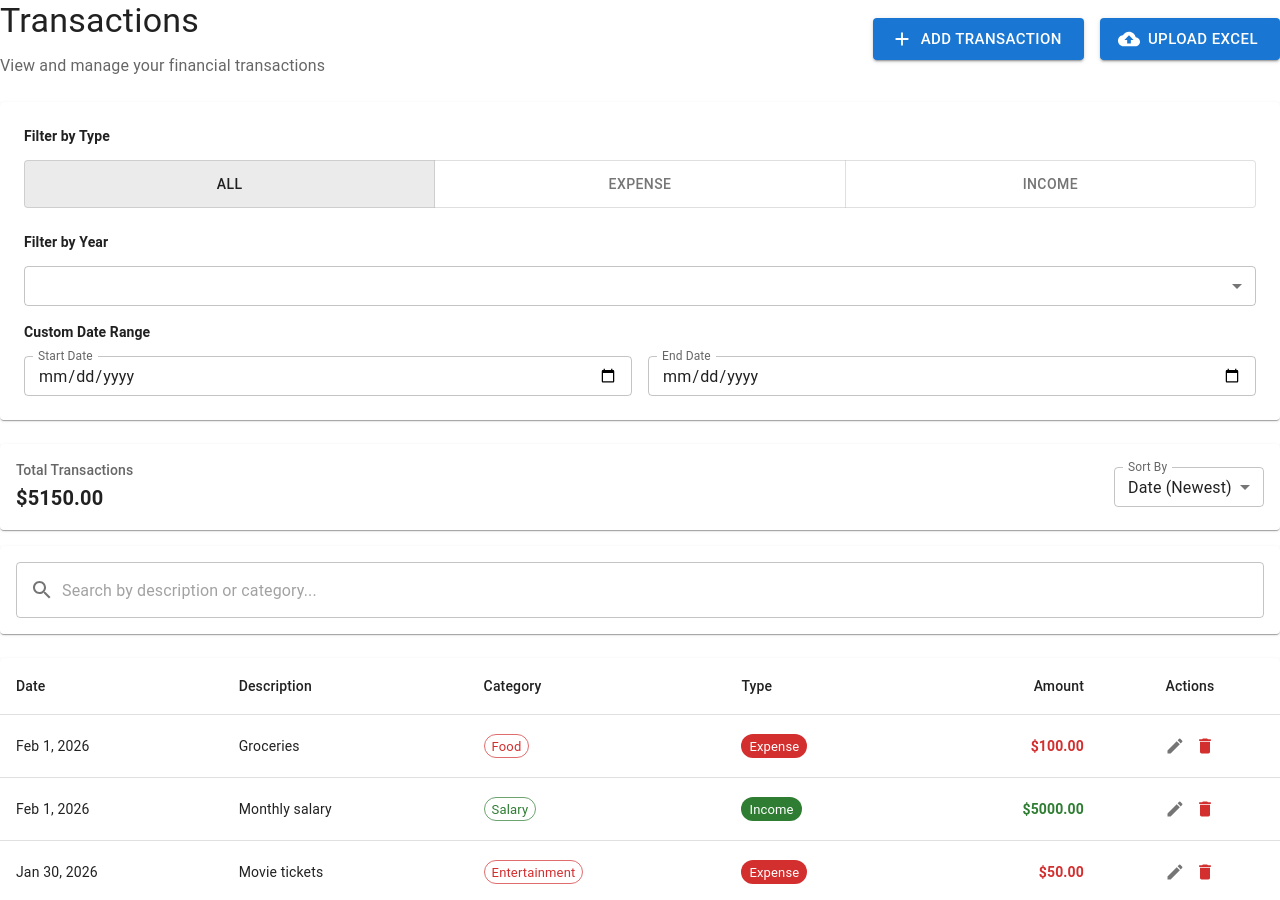
Test: Transactions Component › Delete Transaction › closes delete confirmation when cancel is clicked
Expected: the text "Groceries" is shown, x1=223 y1=715 x2=468 y2=778
Note: Click delete button
Click the button named "delete" in the row of "Groceries" at (1205, 746), box x1=1190 y1=731 x2=1220 y2=761
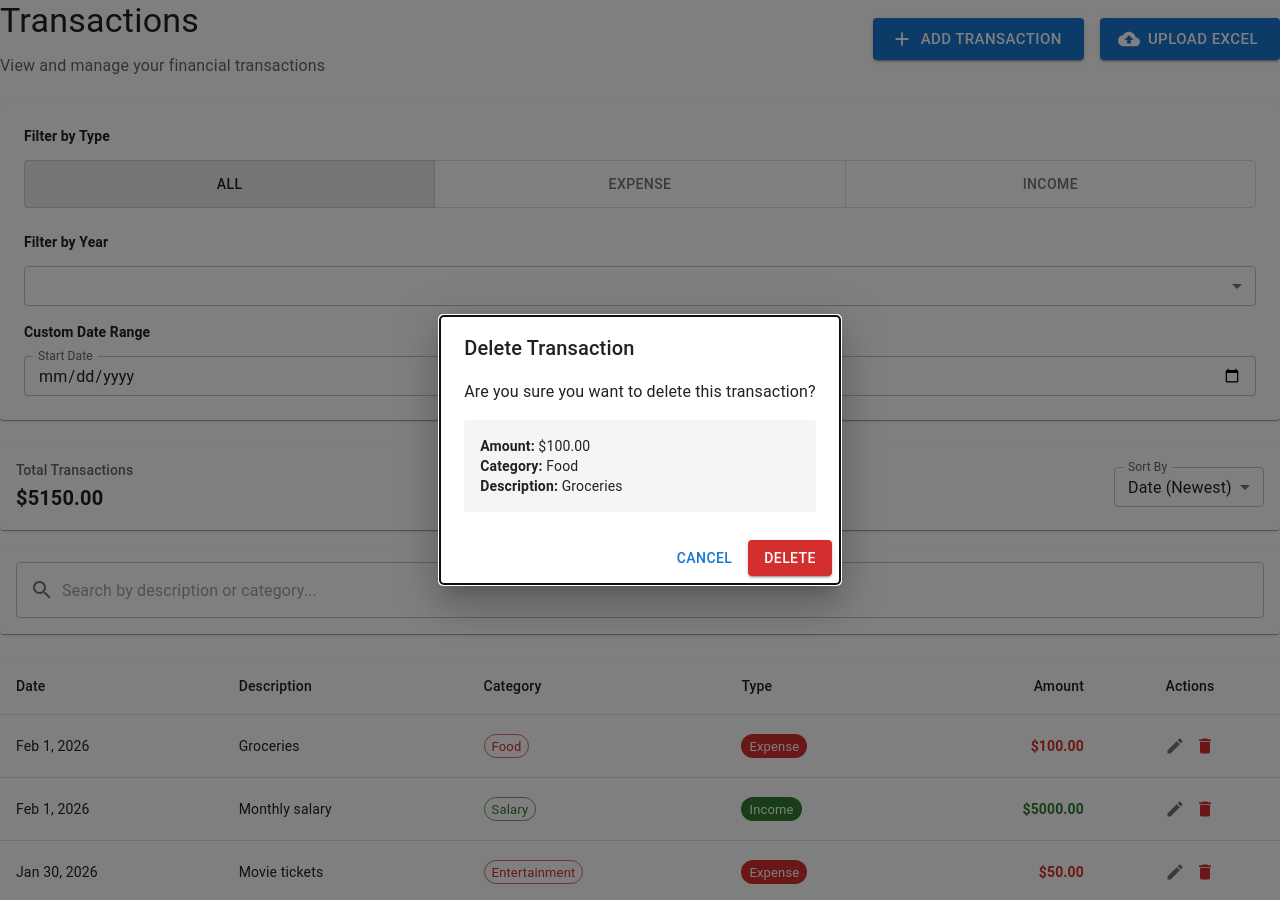
Expected: the text "Are you sure you want to delete this transaction?" is shown, x1=464 y1=380 x2=816 y2=404
Note: Click cancel
Click the button "Cancel" at (705, 558), box x1=669 y1=540 x2=740 y2=576
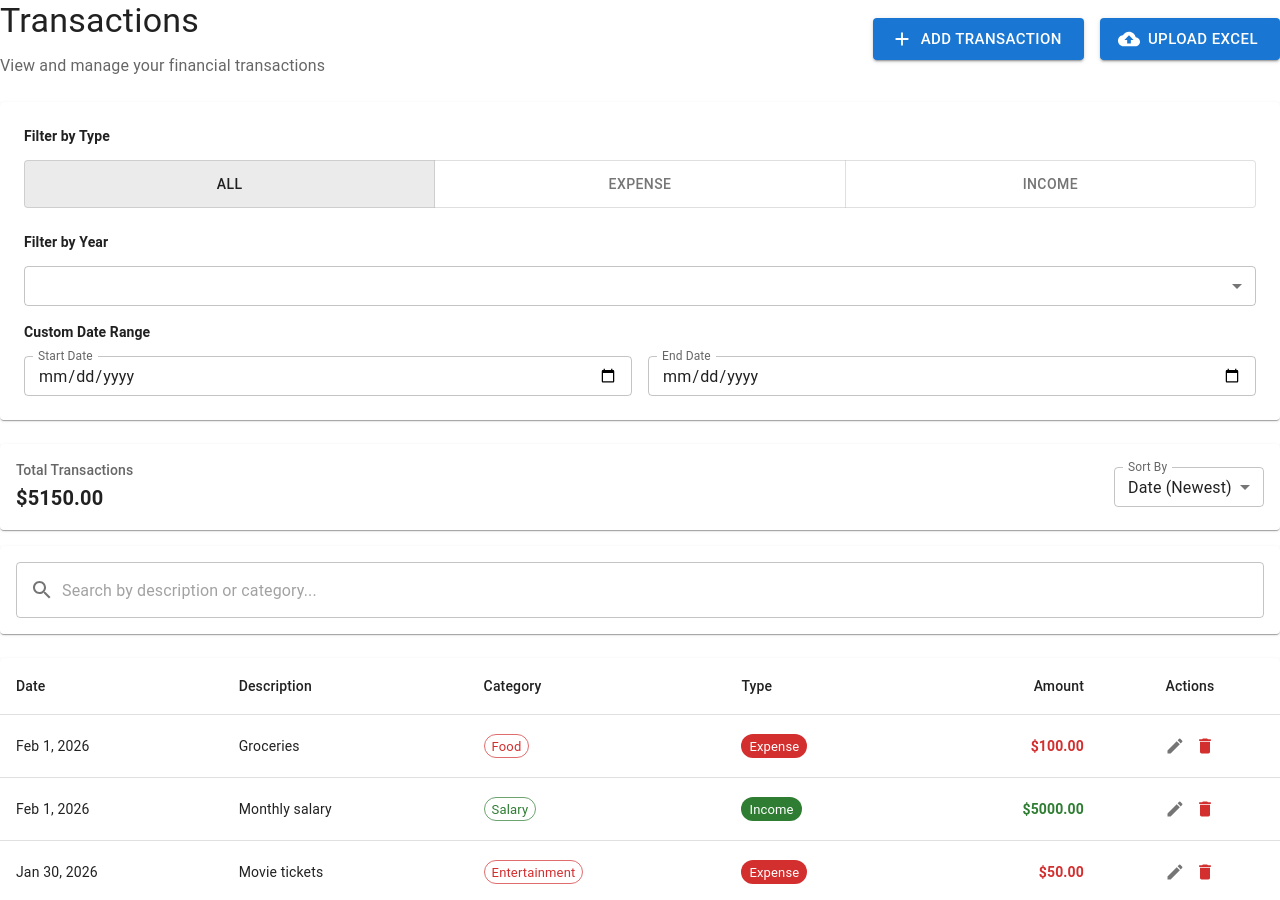
Expected: the text "Are you sure you want to delete" is gone
